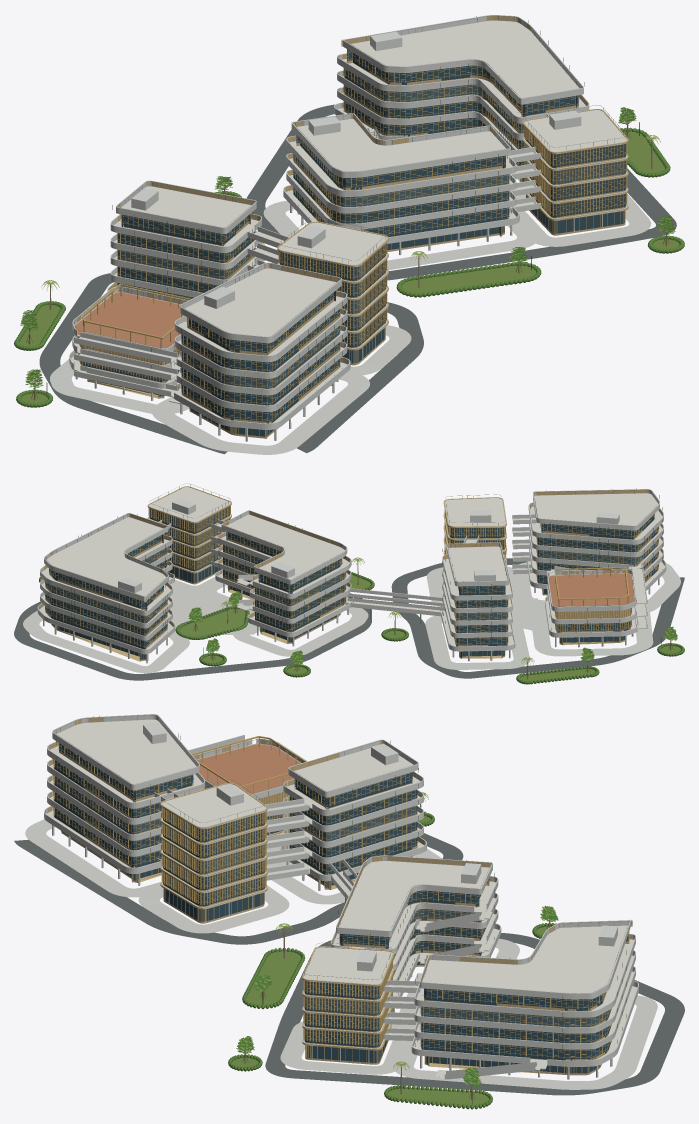
The model's file is uestc-lod0.glb.
3 renders of one model, top to bottom at view 1: azimuth 30°, elevation 25°; view 2: azimuth 150°, elevation 25°; view 3: azimuth 270°, elevation 25°, orthographic. The views are drawn at different scales.
Visible parts, largest first — view 1: rounded white balcony ribbons | ivory metal, recessed blue glazing | blue glazing, flat roof planes | roof, champagne window grids | champagne fins, gold spandrels | gold spandrel, internal drive and court paving | dark paving, site perimeter paving | pale paving, gold vertical sun fins | champagne fins, balcony floor decks | roof, recessed blue glazing | glazing light, elevated wing connectors | ivory metal, connected planted lawns | lawn (+9 smaller); view 2: rounded white balcony ribbons | ivory metal, flat roof planes | roof, recessed blue glazing | blue glazing, site perimeter paving | pale paving, gold spandrels | gold spandrel, champagne window grids | champagne fins, internal drive and court paving | dark paving, balcony floor decks | roof, gold vertical sun fins | champagne fins, recessed blue glazing | glazing light, terracotta roof terrace | terracotta, connected planted lawns | lawn (+12 smaller); view 3: recessed blue glazing | blue glazing, flat roof planes | roof, rounded white balcony ribbons | ivory metal, site perimeter paving | pale paving, gold spandrels | gold spandrel, champagne window grids | champagne fins, internal drive and court paving | dark paving, gold vertical sun fins | champagne fins, balcony floor decks | roof, recessed blue glazing | glazing light, elevated wing connectors | ivory metal, terracotta roof terrace | terracotta (+10 smaller).
Part boxes in pixels (box(x1,y1,x2,y2)): rounded white balcony ribbons | ivory metal: box(69, 15, 589, 429); recessed blue glazing | blue glazing: box(80, 49, 625, 436); flat roof planes | roof: box(72, 20, 628, 351); champagne window grids | champagne fins: box(81, 50, 626, 437); gold spandrels | gold spandrel: box(70, 15, 628, 438); internal drive and court paving | dark paving: box(39, 104, 676, 454); site perimeter paving | pale paving: box(50, 194, 651, 454); gold vertical sun fins | champagne fins: box(78, 56, 627, 420); balcony floor decks | roof: box(69, 59, 626, 429); recessed blue glazing | glazing light: box(117, 68, 625, 388); elevated wing connectors | ivory metal: box(74, 111, 562, 396); connected planted lawns | lawn: box(19, 131, 679, 403); rounded white balcony ribbons | ivory metal: box(37, 489, 666, 654); flat roof planes | roof: box(44, 487, 659, 611); recessed blue glazing | blue glazing: box(45, 506, 658, 659); site perimeter paving | pale paving: box(23, 562, 680, 673); gold spandrels | gold spandrel: box(39, 486, 663, 661); champagne window grids | champagne fins: box(45, 508, 658, 659); internal drive and court paving | dark paving: box(14, 558, 684, 680); balcony floor decks | roof: box(39, 506, 665, 654); gold vertical sun fins | champagne fins: box(49, 505, 657, 645); recessed blue glazing | glazing light: box(45, 519, 658, 623); terracotta roof terrace | terracotta: box(548, 573, 634, 606); connected planted lawns | lawn: box(179, 574, 680, 681); recessed blue glazing | blue glazing: box(53, 743, 628, 1073); flat roof planes | roof: box(52, 719, 630, 999); rounded white balcony ribbons | ivory metal: box(44, 714, 638, 1066); site perimeter paving | pale paving: box(25, 819, 657, 1089); gold spandrels | gold spandrel: box(45, 715, 634, 1075); champagne window grids | champagne fins: box(52, 742, 632, 1073); internal drive and court paving | dark paving: box(14, 833, 684, 1095); gold vertical sun fins | champagne fins: box(54, 746, 629, 1059); balcony floor decks | roof: box(44, 746, 636, 1066); recessed blue glazing | glazing light: box(53, 776, 611, 1027); elevated wing connectors | ivory metal: box(154, 734, 420, 1040); terracotta roof terrace | terracotta: box(197, 744, 300, 794).
Bounding box in the file's own units: 182 × 26.5 × 148.
